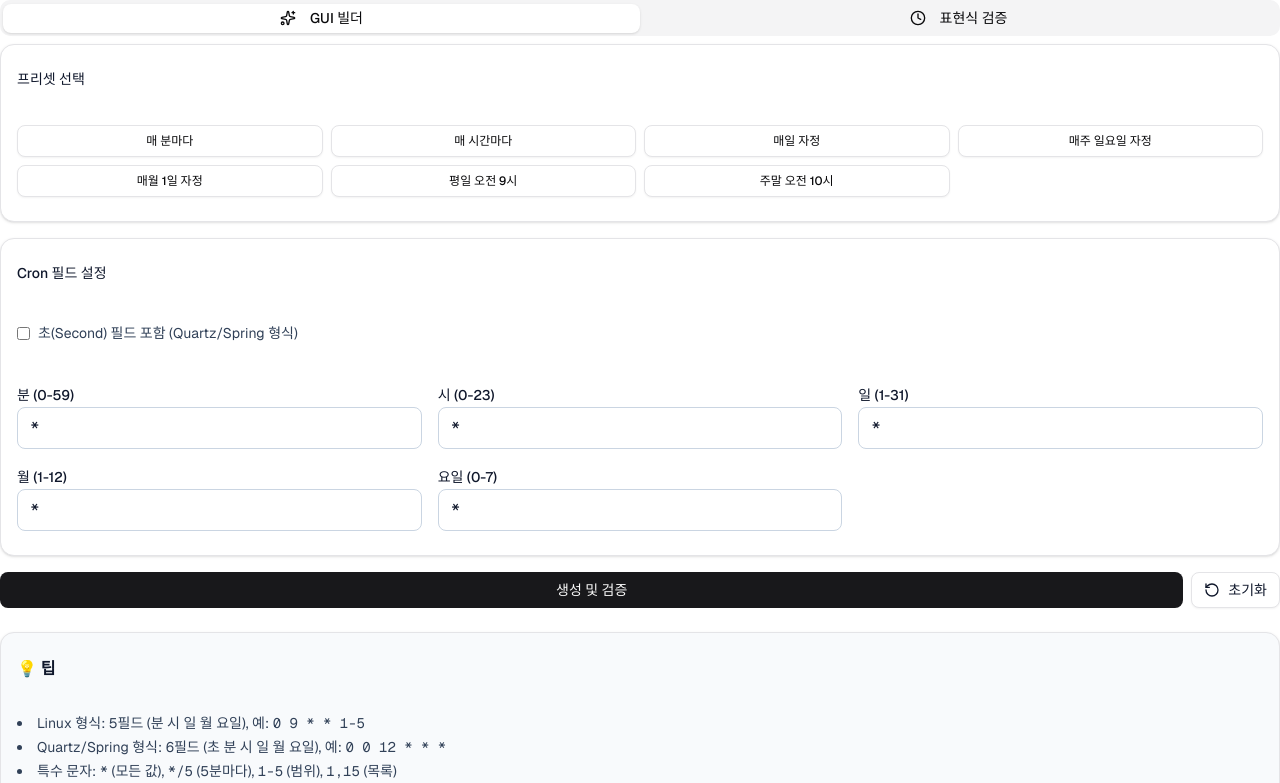
Scenario: CronExpressionGenerator Component › 모드 전환 테스트 › 모드 변경 시 결과 초기화
This screenshot has width=1280, height=783.
Click the button "생성 및 검증" at (592, 590), box [0,572,1183,608]
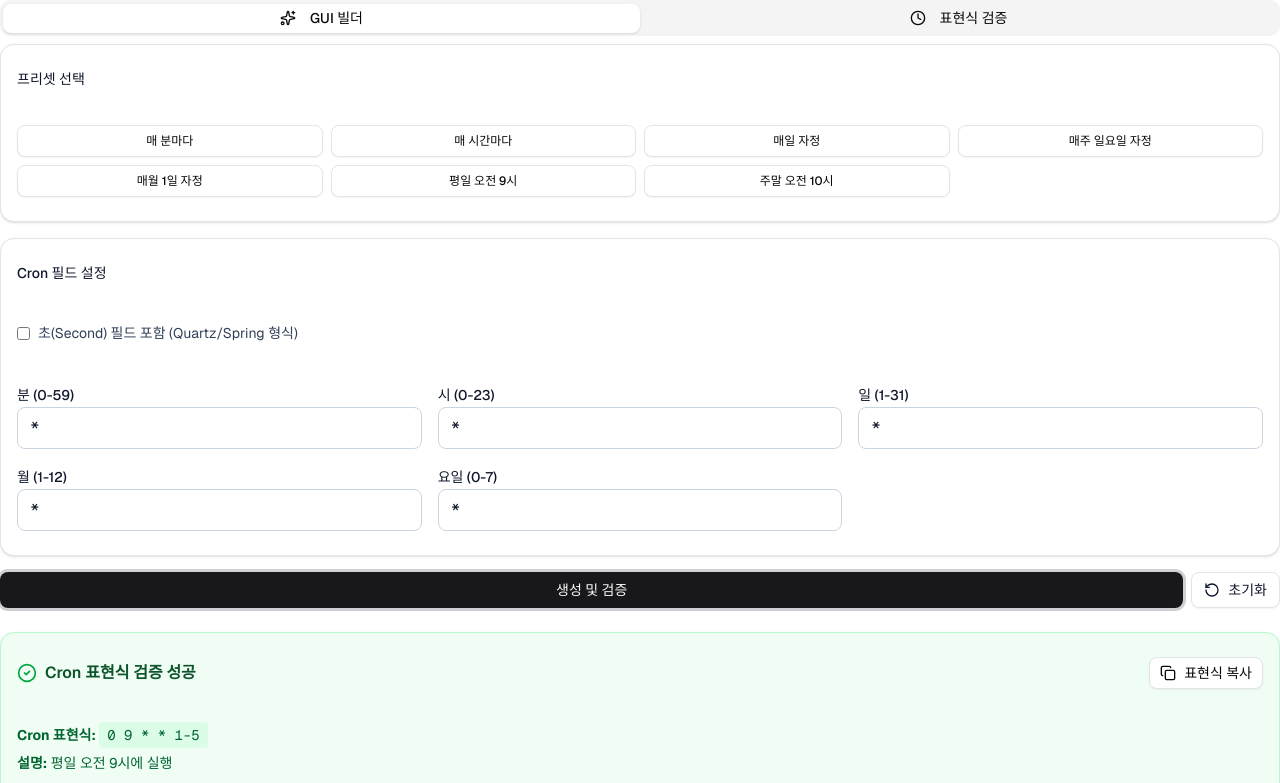
Result: the heading "Cron 표현식 검증 성공" is shown at [45,661,196,685]
Click the tab "표현식 검증" at (958, 18), box [640,4,1277,32]
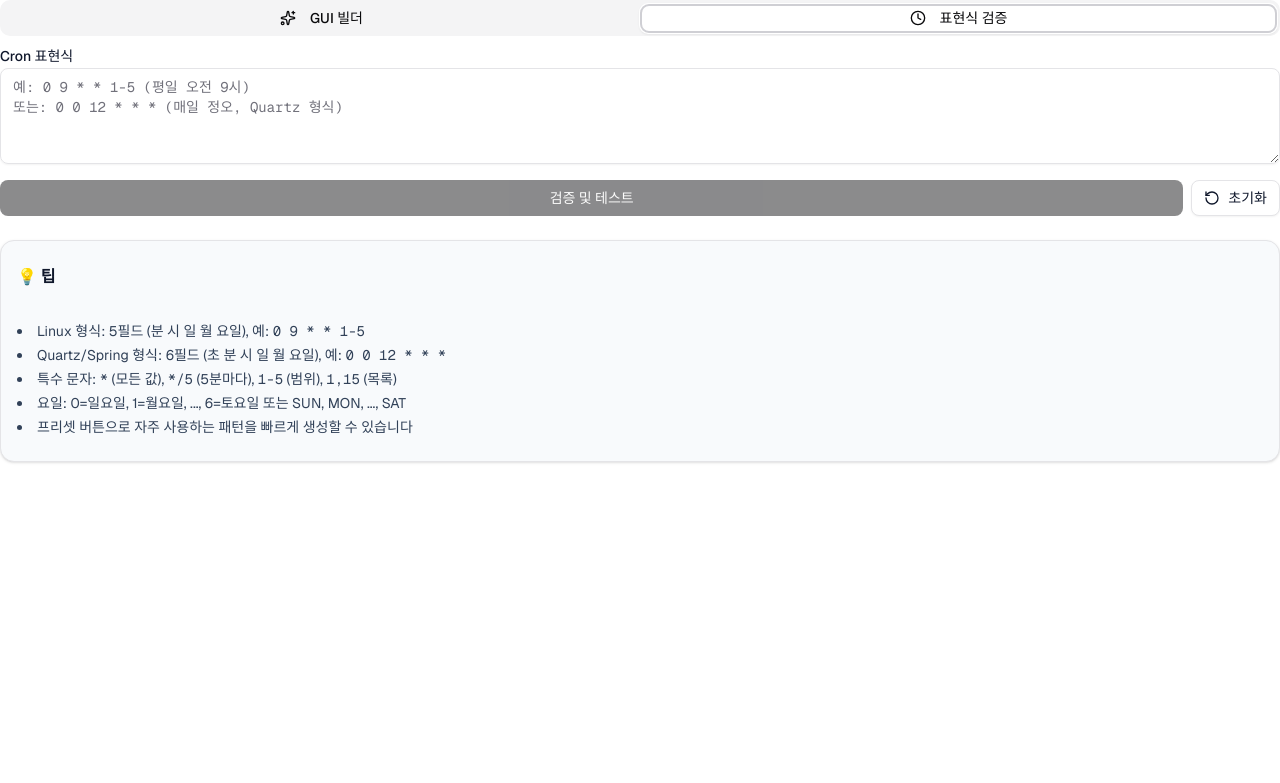
Result: the heading "Cron 표현식 검증 성공" is gone
